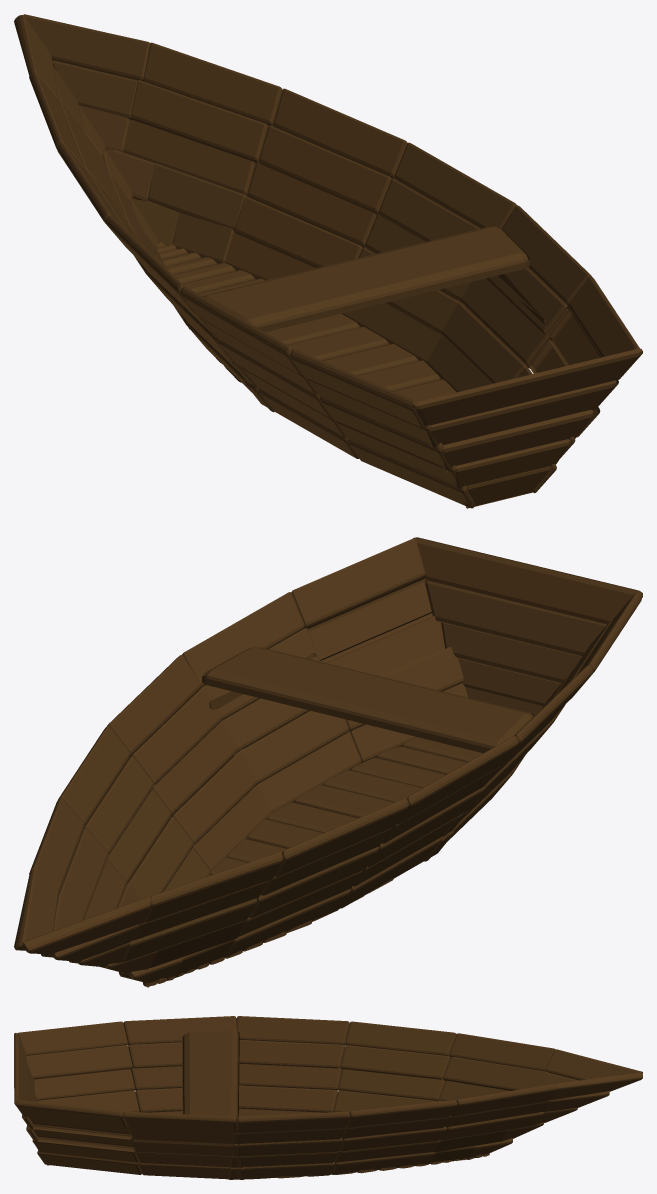
The model's file is boat.fbx.
3 renders of one model, top to bottom at view 1: azimuth 30°, elevation 25°; view 2: azimuth 150°, elevation 25°; view 3: azimuth 270°, elevation 25°, orthographic. The views are drawn at different scales.
Parts seen in each view (by area): view 1: Plane.001; view 2: Plane.001; view 3: Plane.001.
Part boxes in pixels (bbox=[...]): Plane.001: bbox=[14, 14, 642, 508]; Plane.001: bbox=[14, 537, 642, 987]; Plane.001: bbox=[14, 1016, 642, 1179].
Size of the model in its own units: 109 by 44.84 by 281.
